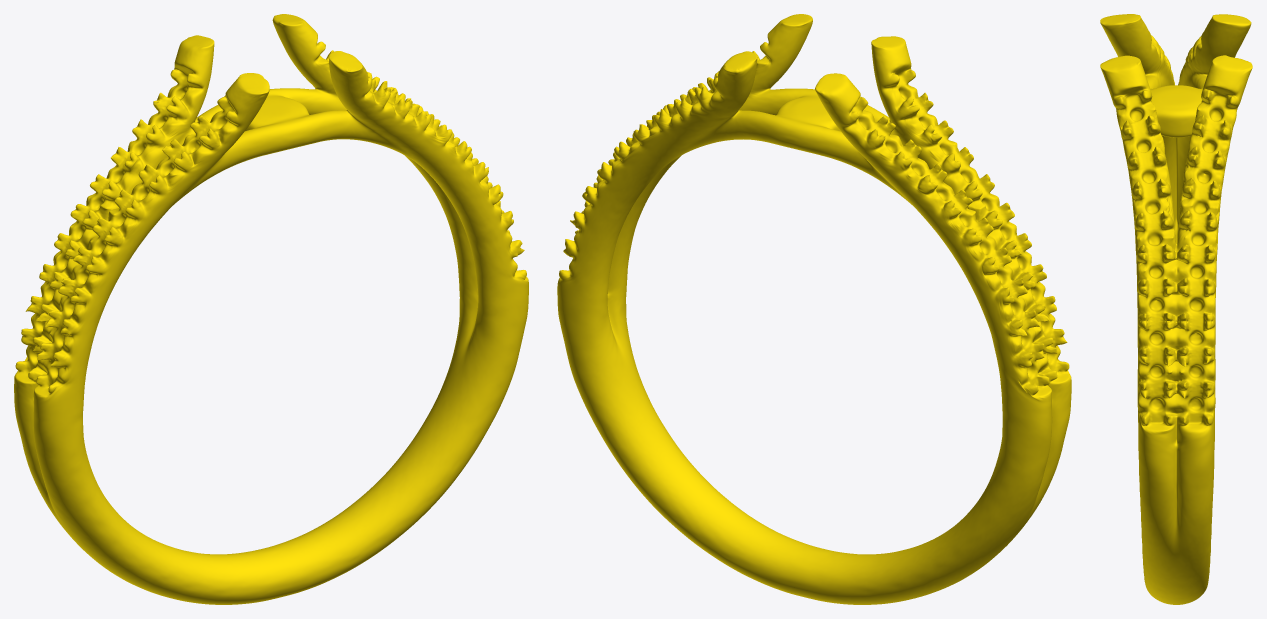
Rendered from Shank_Two row split_French Pave_A_Single Halo_Band.glb.
The picture shows the model from 3 angles, left to right: view 1: azimuth 30°, elevation 25°; view 2: azimuth 150°, elevation 25°; view 3: azimuth 270°, elevation 25°; orthographic projection.
Size of the model in its own units: 0.0212 by 0.0226 by 0.00579.
